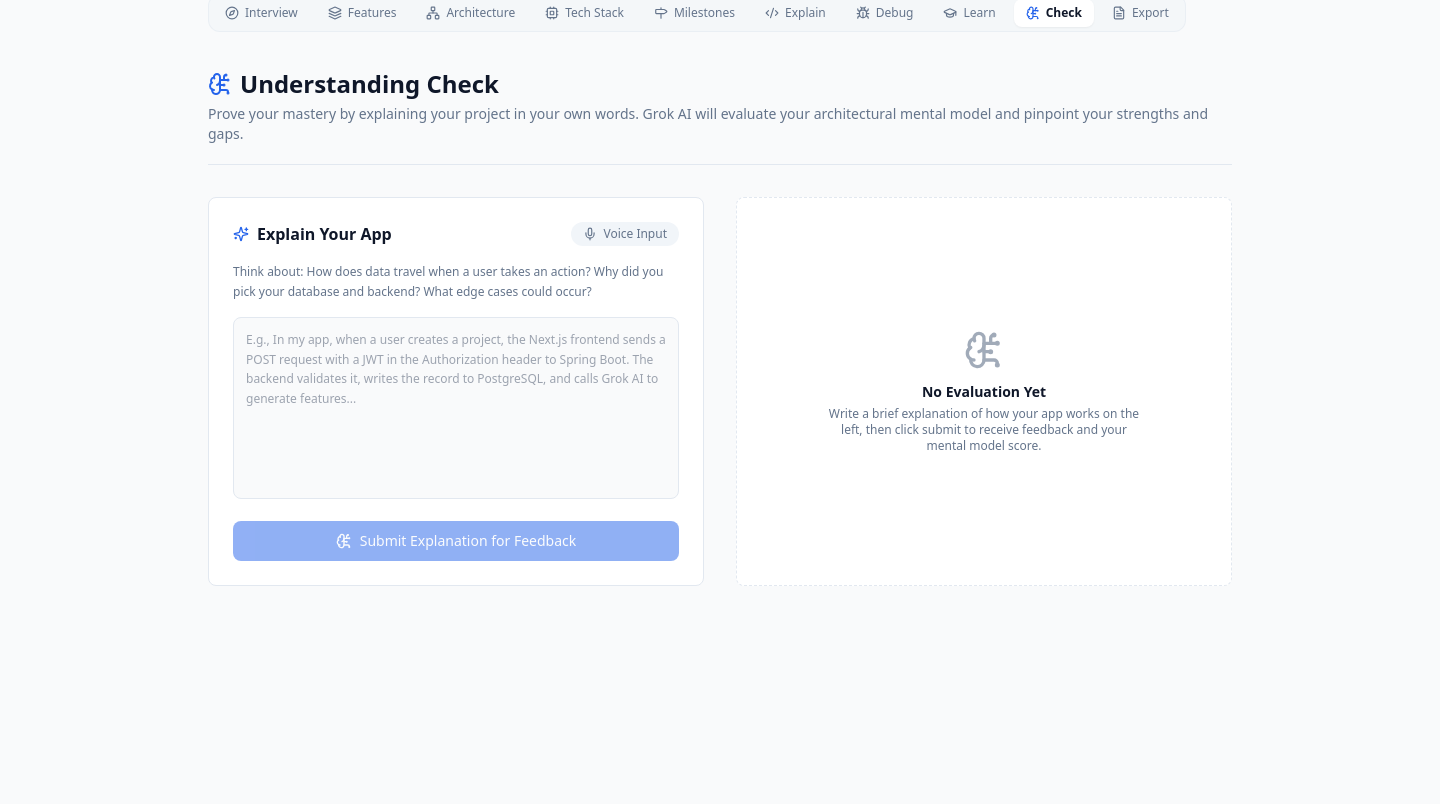
UnderstandingCheckPage › submits new explanation and updates score
Step 1. Replace the text in the text box with placeholder "E.g., In my app, when a user creates a project" with "My app uses Next.js App Router for frontend UI and Spring Boot for secure business logic." → x=456, y=408, box [233,317,679,499]
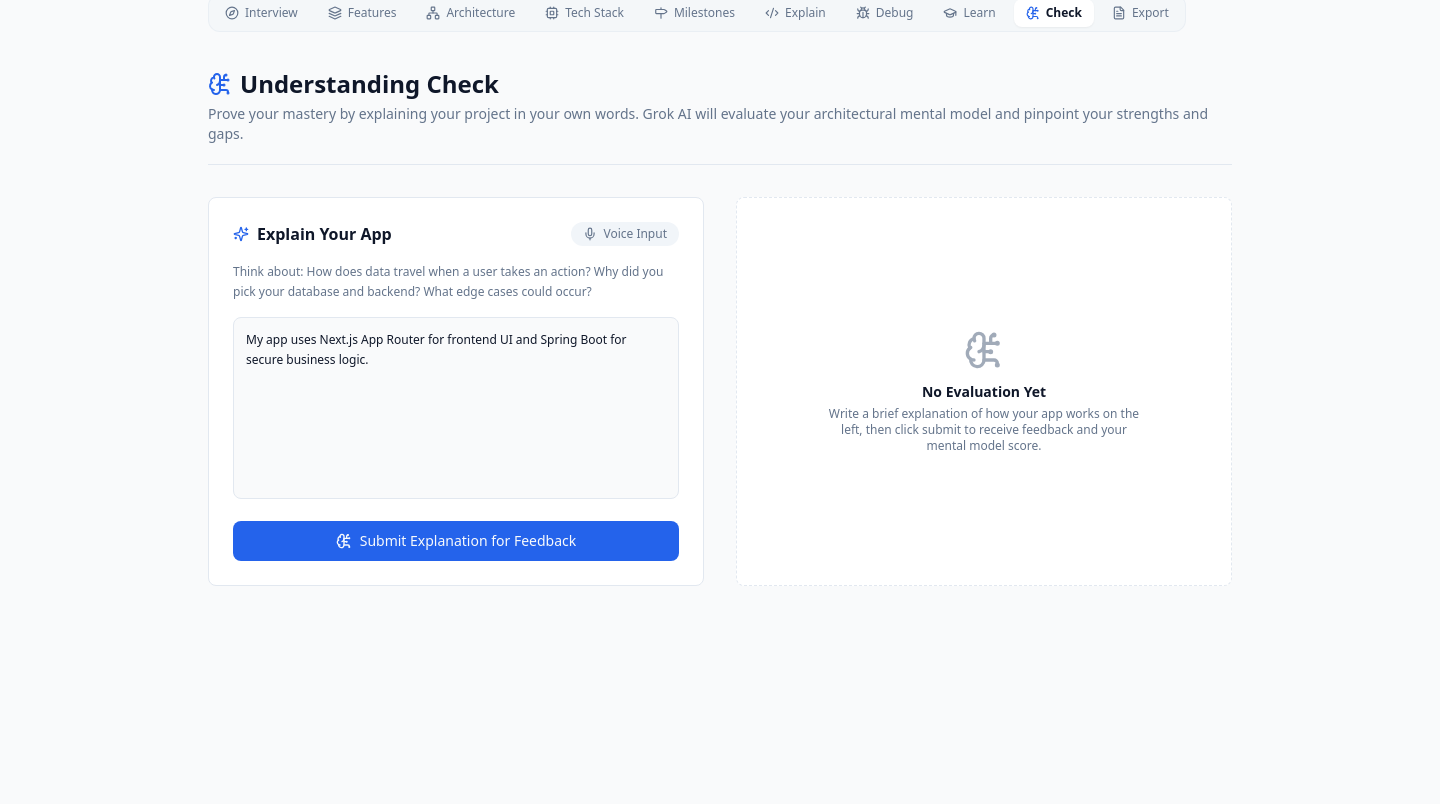
Step 2. Click the button "Submit Explanation for Feedback" → x=456, y=541, box [233,521,679,561]
(page scrolled)
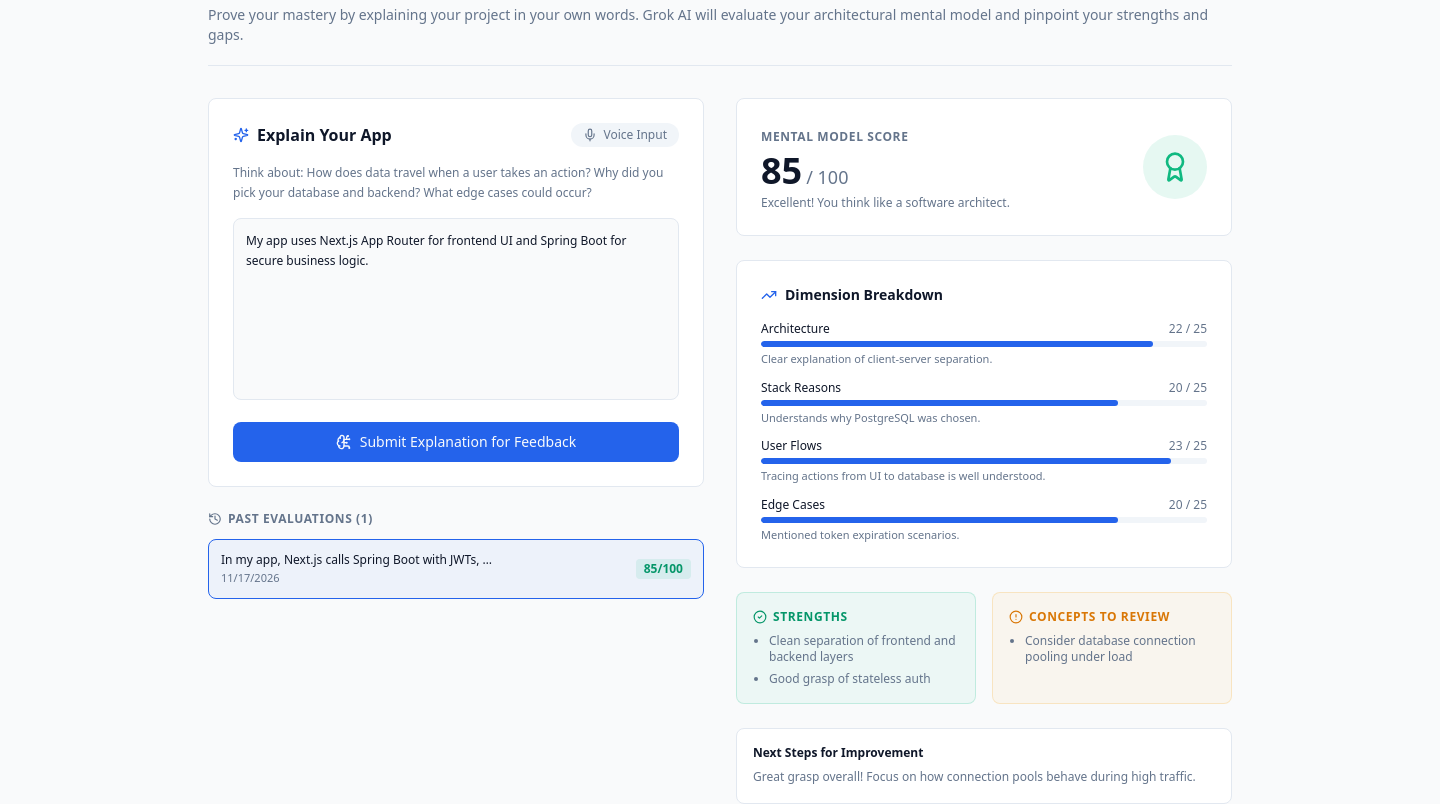
Expected: the text "Mental Model Score" is shown, [761,128,908,145]
Expected: the heading "Next Steps for Improvement" is shown, [753,744,923,761]
